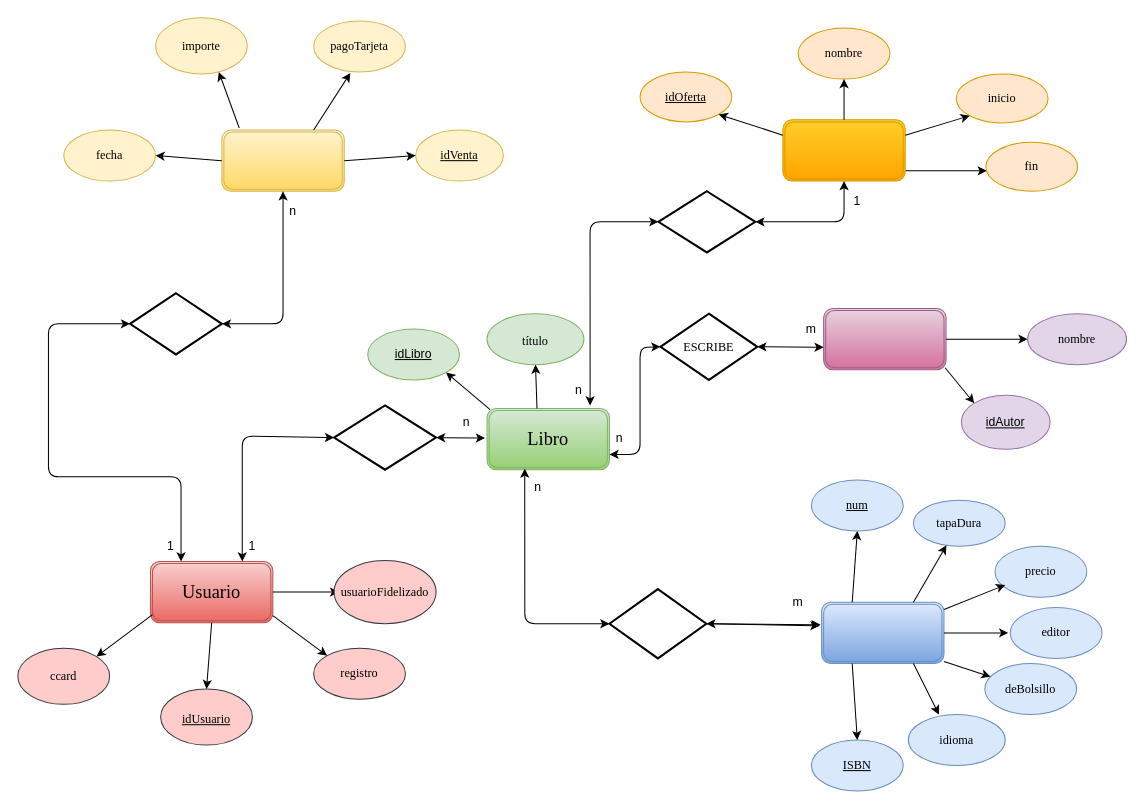
The diagram is 1144 pixels wide and 809 high, and some of its shapes have lost their labels. The shapes that lost their labels are listed below. From the top down, each one's centre as x and y in pixels, then its label:
At [282,160]: "Venta".
At [843,150]: "Oferta".
At [706,221]: "SE APLICA".
At [175,323]: "EFECTÚA".
At [884,339]: "Autor".
At [385,437]: "COMPRA".
At [657,623]: "TIENE".
At [882,632]: "Edición".
